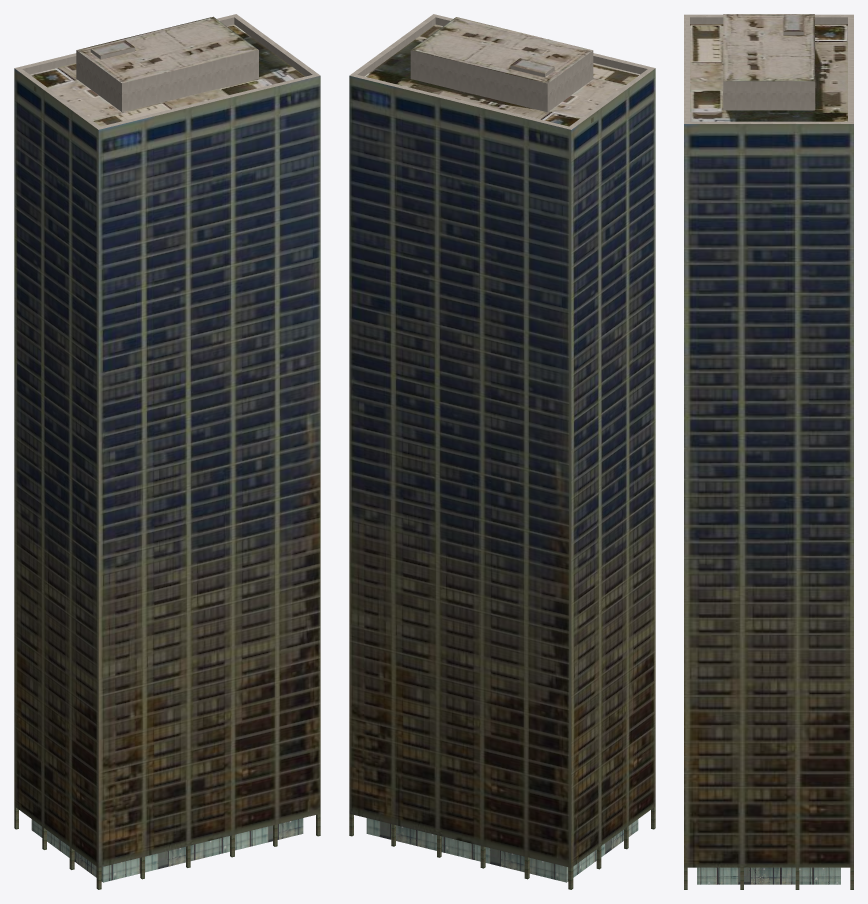
File: Columbus-Plaza.dae
3 renders of one model, left to right at view 1: azimuth 30°, elevation 25°; view 2: azimuth 150°, elevation 25°; view 3: azimuth 270°, elevation 25°, orthographic.
Parts seen in each view (by area): view 1: SketchUp (×8); view 2: SketchUp (×8); view 3: SketchUp (×9).
Part boxes in pixels (left/top/right/bottom): SketchUp (×8): left=14, top=14, right=320, bottom=889; SketchUp (×8): left=349, top=14, right=655, bottom=889; SketchUp (×9): left=684, top=14, right=853, bottom=889.
Bounding box in the file's own units: 1588 × 1044 × 5364.
Materials: 5 (5 with a texture image).
